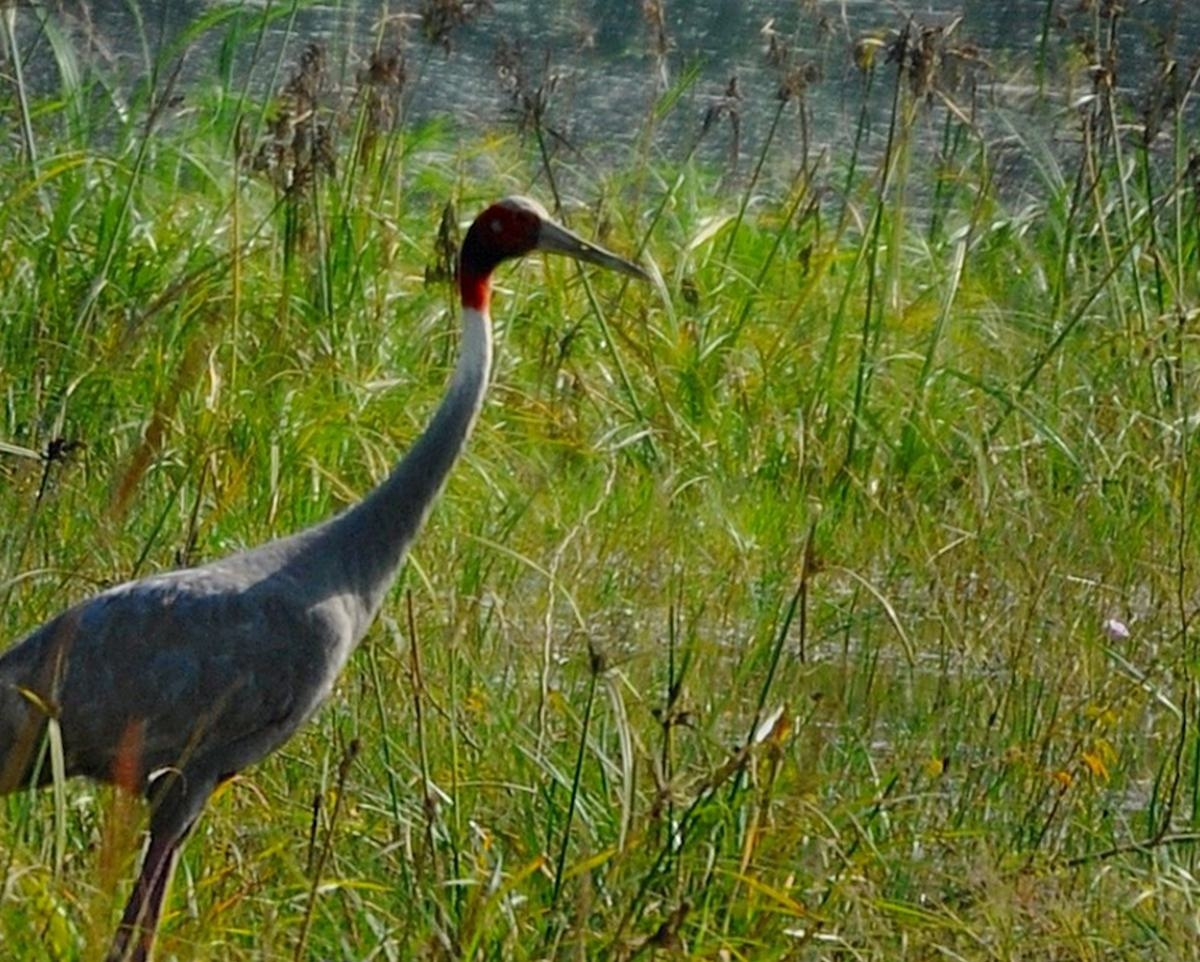crane: (1, 201, 660, 962)
